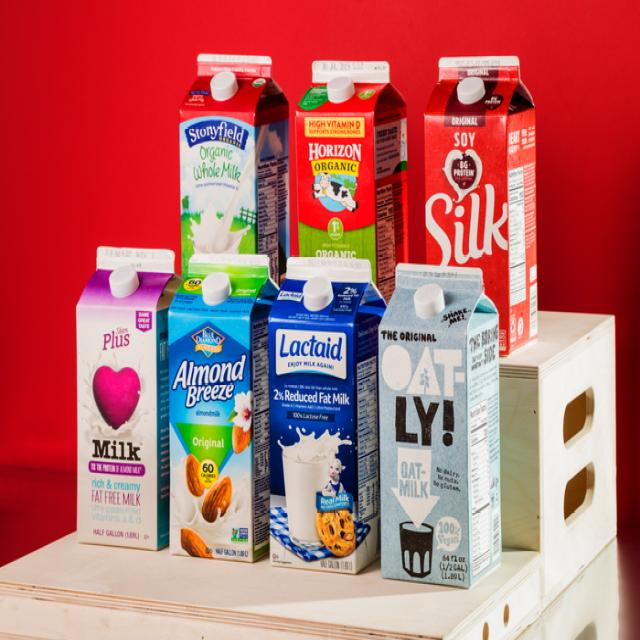cardboard: (378, 256, 507, 594), (265, 251, 380, 573), (167, 250, 276, 564), (426, 54, 538, 344), (71, 240, 171, 550), (292, 54, 410, 261), (174, 49, 290, 256)
